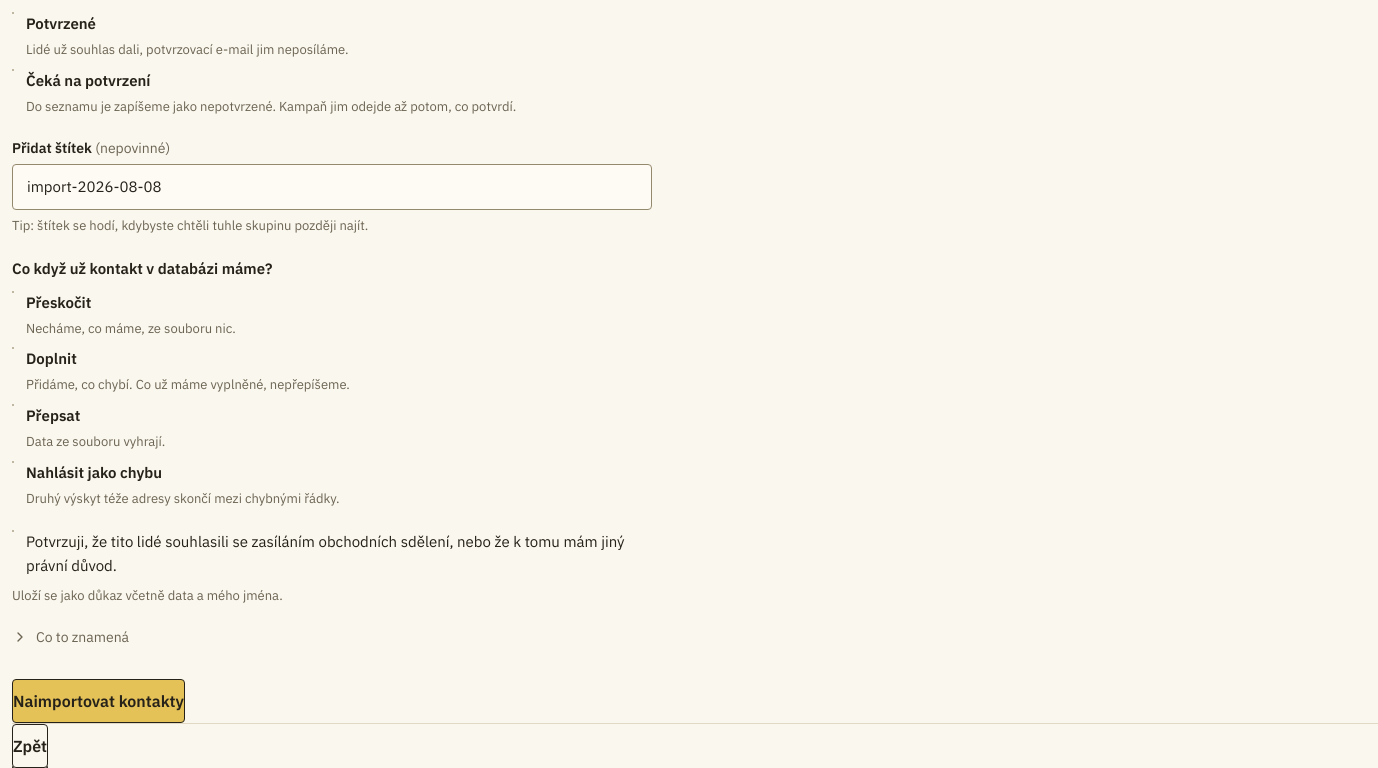
Scenario: import wizard options step › refuses to import without a list instead of quietly importing into none
(page scrolled)
Step 1. Click the button "Naimportovat kontakty" → (98, 701), box [12,679,185,723]
(page scrolled)
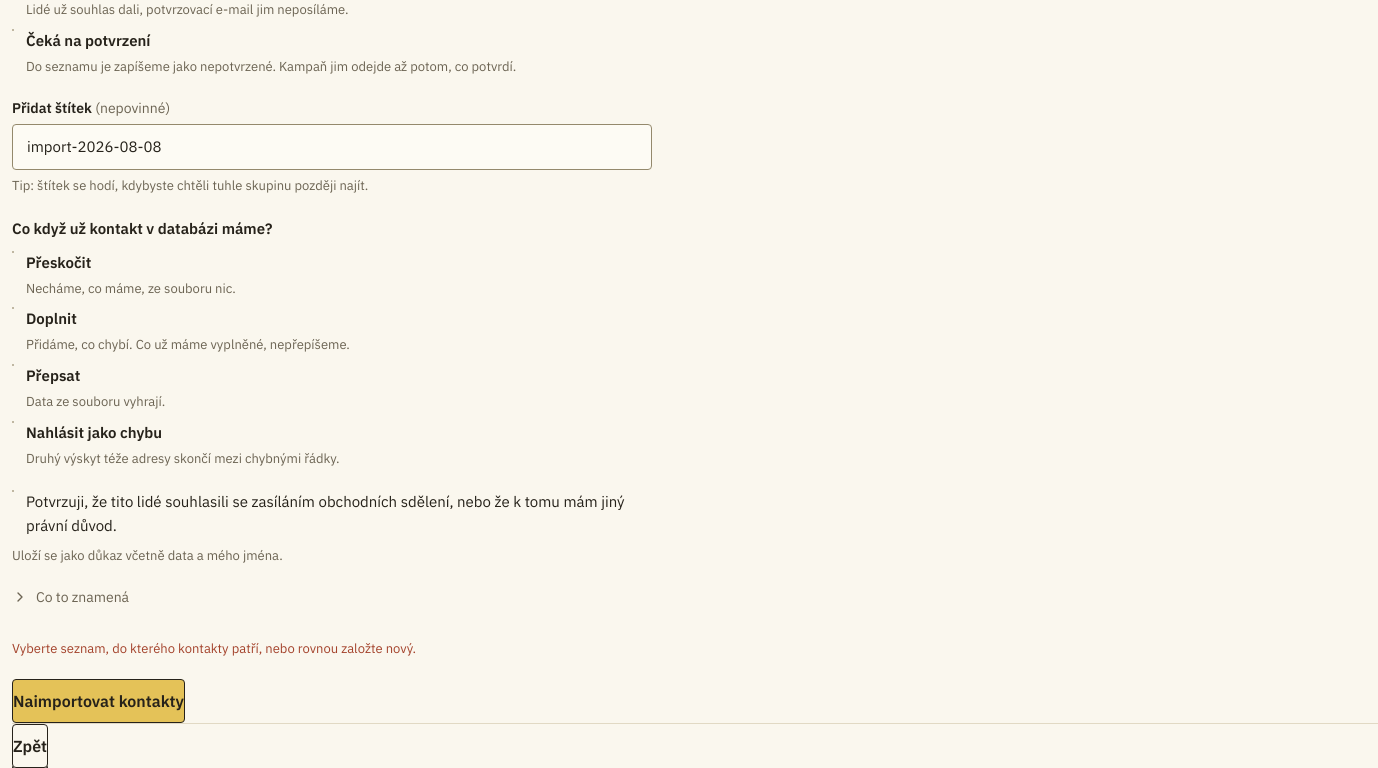
Expected: the message shows "Vyberte seznam", [12,640,416,657]
